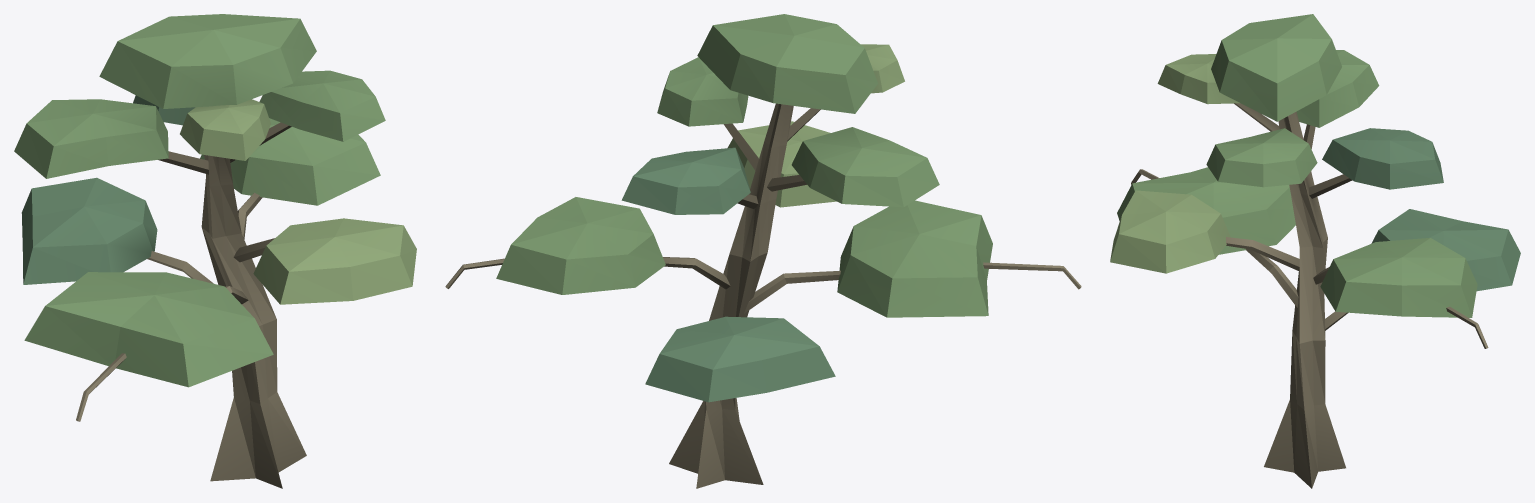
Rendered from pine.glb.
3 views of the same model, side by side, from view 1: azimuth 30°, elevation 25°; view 2: azimuth 150°, elevation 25°; view 3: azimuth 270°, elevation 25° (orthographic). The views are drawn at different scales.
Visible parts, largest first — view 1: pine; view 2: pine; view 3: pine.
Part boxes in pixels (x1=…): pine: x1=14, y1=14, x2=416, y2=488; pine: x1=445, y1=14, x2=1081, y2=488; pine: x1=1110, y1=14, x2=1520, y2=488.
Bounding box in the file's own units: 7.34 × 6.98 × 6.45.
